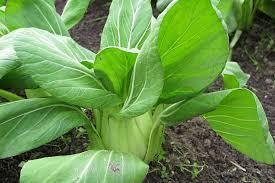Bok-Choy-Diseased: (30, 151, 149, 183)
